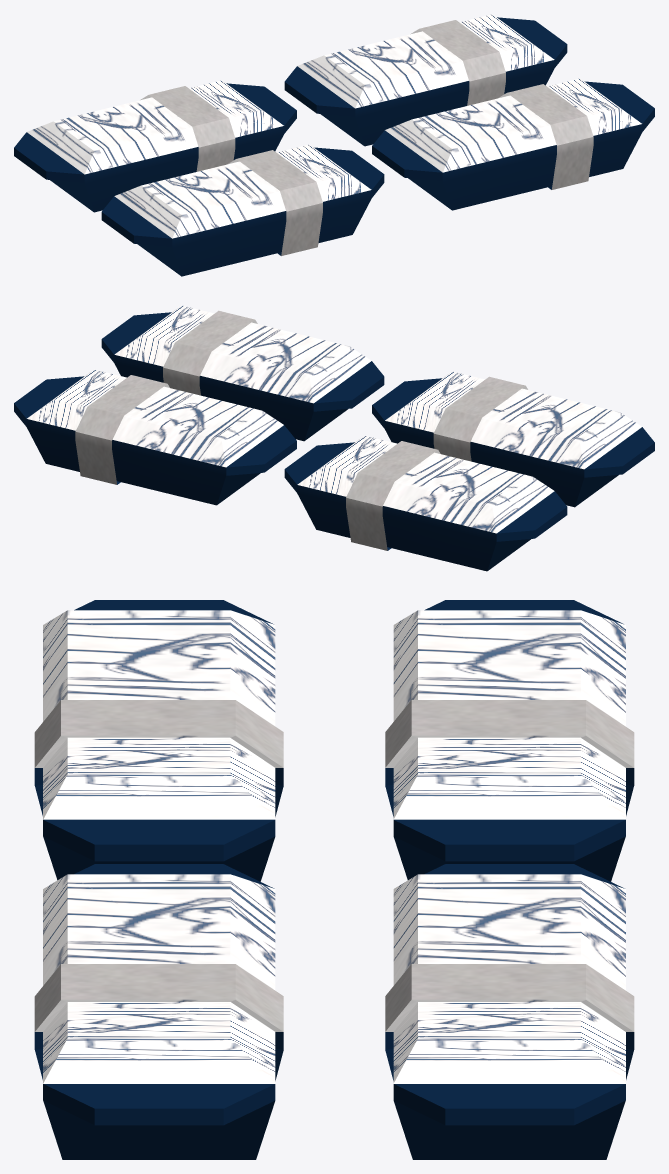
Rendered from Bento_Box.fbx.
3 renders of one model, top to bottom at view 1: azimuth 30°, elevation 25°; view 2: azimuth 150°, elevation 25°; view 3: azimuth 270°, elevation 25°, orthographic. The views are drawn at different scales.
Visible parts, largest first — view 1: bento6; view 2: bento6; view 3: bento6.
Part boxes in pixels (x1,y1,x2,y2): bento6: (14, 14, 654, 276); bento6: (14, 305, 654, 571); bento6: (34, 600, 634, 1159).
Size of the model in its own units: 68.17 by 8.04 by 33.95.
